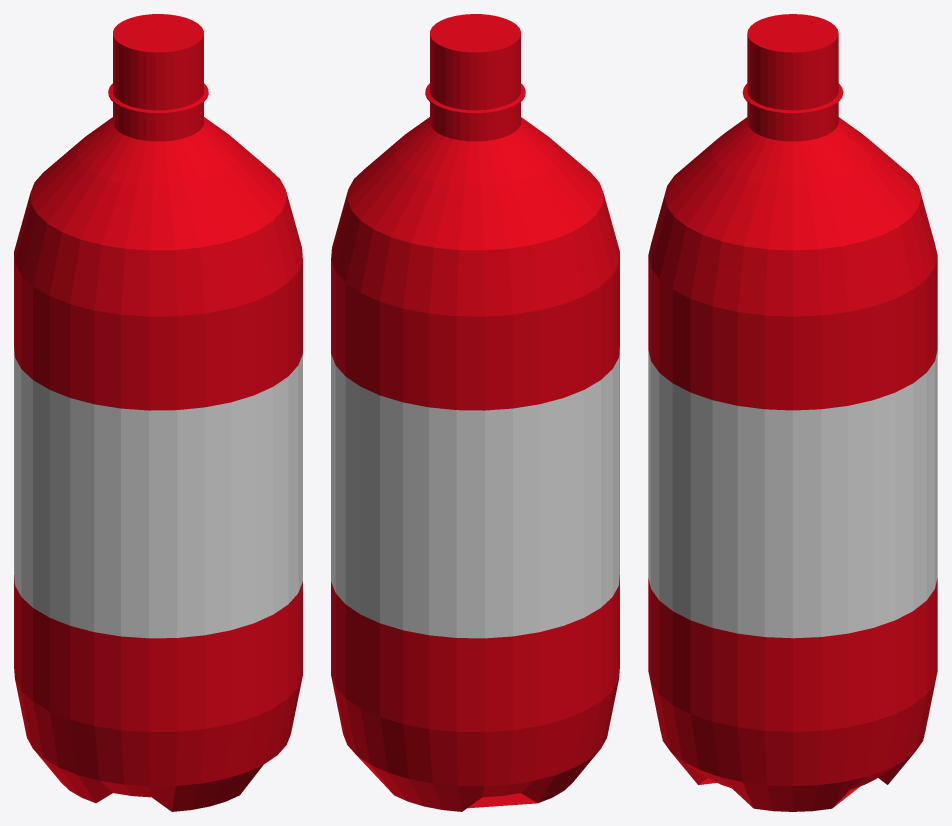
Rendered from Plastic_Trash.fbx.
The picture shows the model from 3 angles, left to right: view 1: azimuth 30°, elevation 25°; view 2: azimuth 150°, elevation 25°; view 3: azimuth 270°, elevation 25°; orthographic projection.
Parts seen in each view (by area): view 1: Plastic_Bottle; view 2: Plastic_Bottle; view 3: Plastic_Bottle.
Boxes of the visible parts, box(x1,y1,x2,y2) form: Plastic_Bottle: box(14, 14, 302, 811); Plastic_Bottle: box(331, 14, 619, 811); Plastic_Bottle: box(648, 14, 937, 811).
Size of the model in its own units: 177 by 496 by 177.
